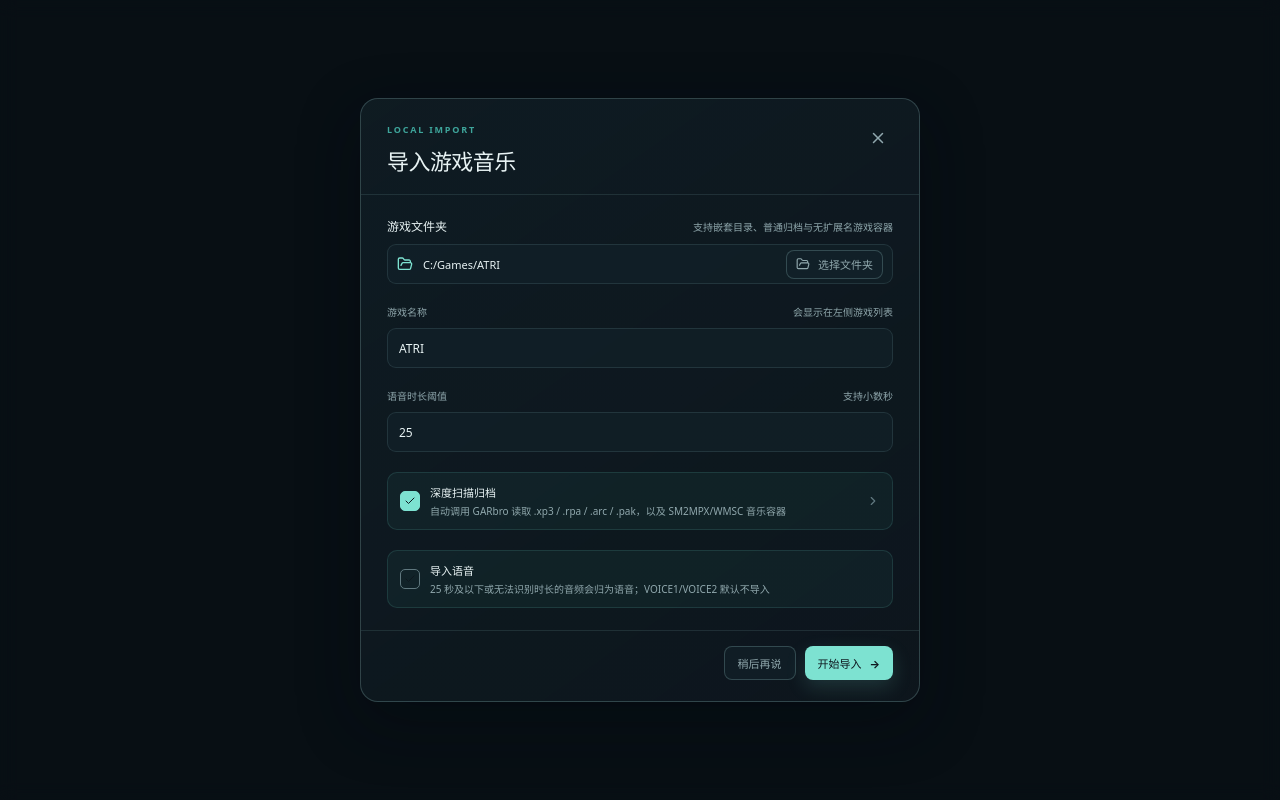
Test: scan and settings surfaces › rejects invalid voice threshold 0
This screenshot has width=1280, height=800.
Step 1. Replace the text in the number field labelled "语音时长阈值 支持小数秒" with "0" → point(640, 432), box [387,412,893,452]
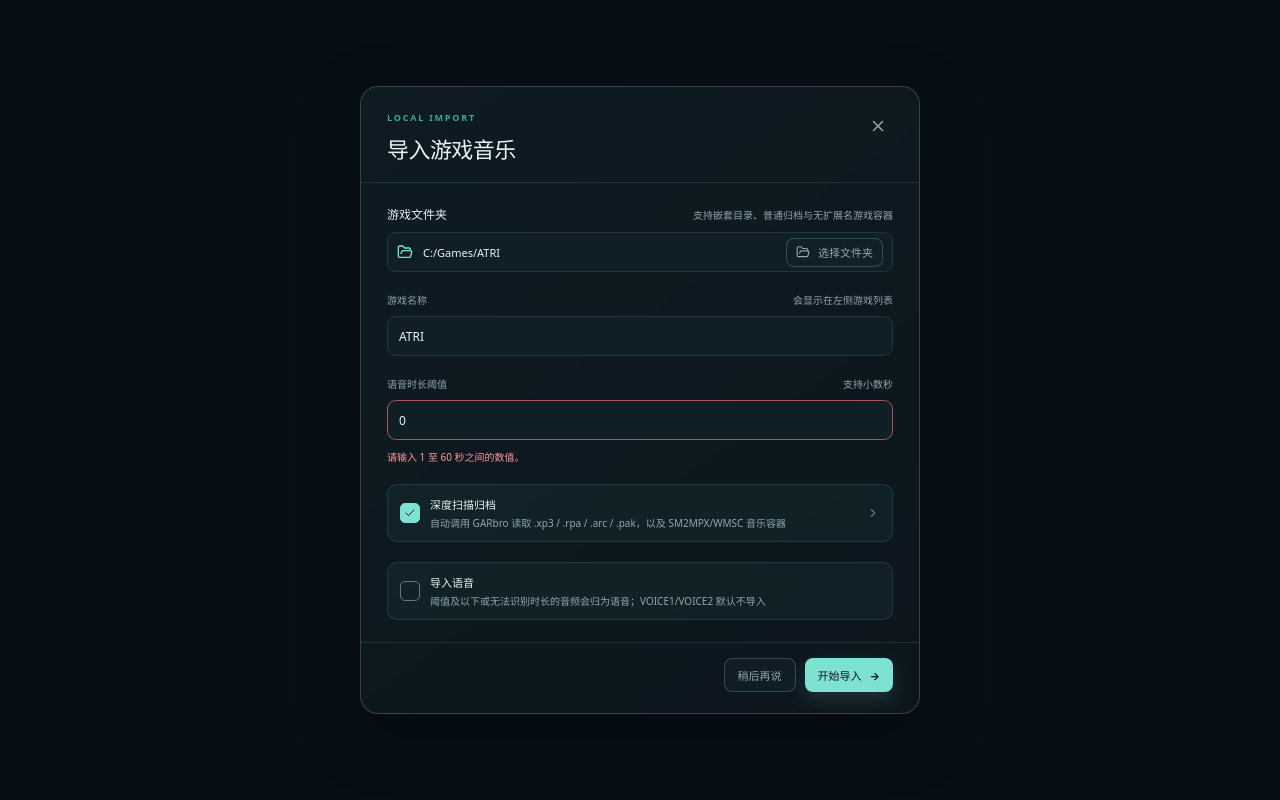
Expected: the button "开始导入 →" is disabled, [804,658,893,692]
Expected: the text "请输入 1 至 60 秒之间的数值。" is shown, [387,450,525,464]
